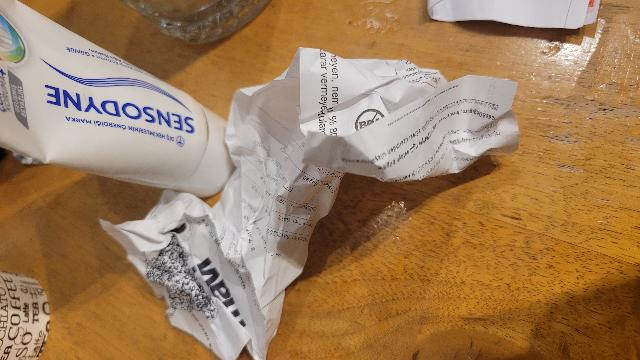Kagit: (224, 47, 518, 307), (98, 192, 282, 360)
Plastik: (2, 1, 235, 196)
